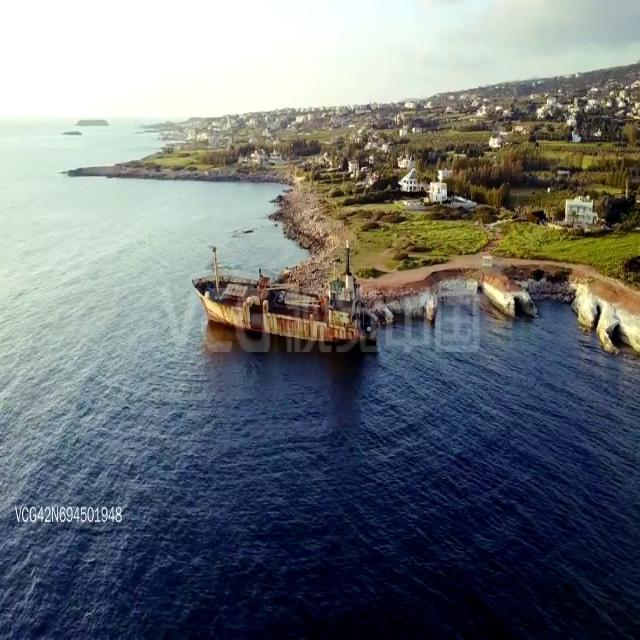cargoship: (189, 240, 383, 354)
